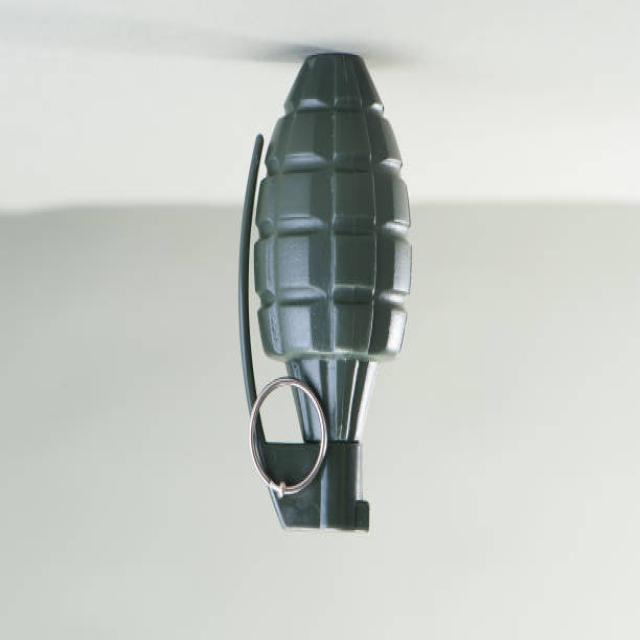grenade: (232, 45, 421, 540)
